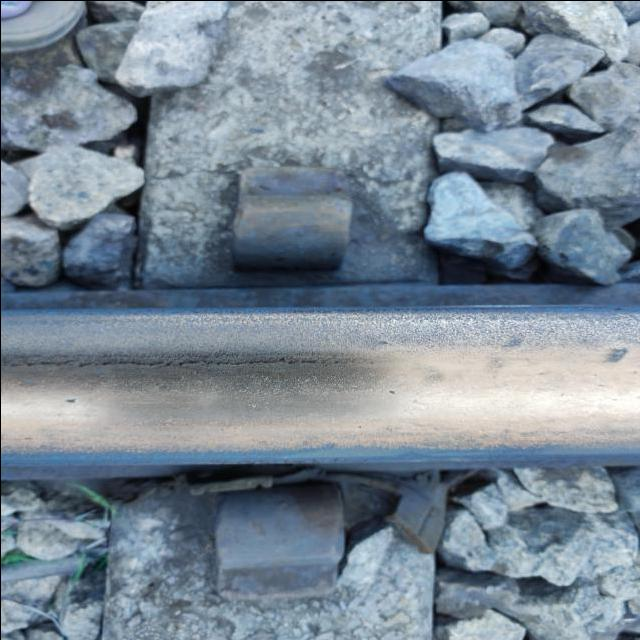broken_rail_medium: (0, 344, 364, 367)
